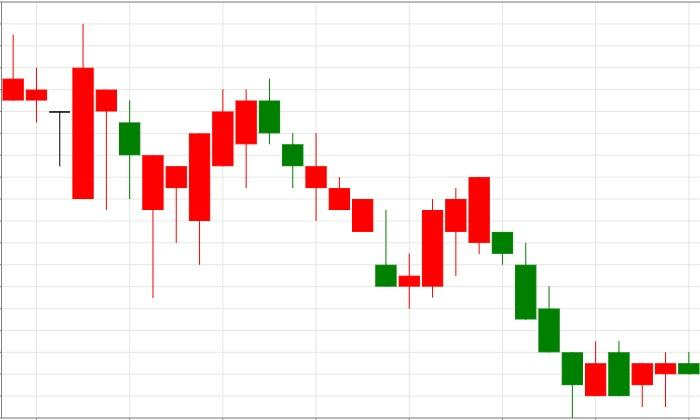hammer_rise: (468, 177, 606, 418)
inverse_hammer_rise: (258, 78, 397, 287)
